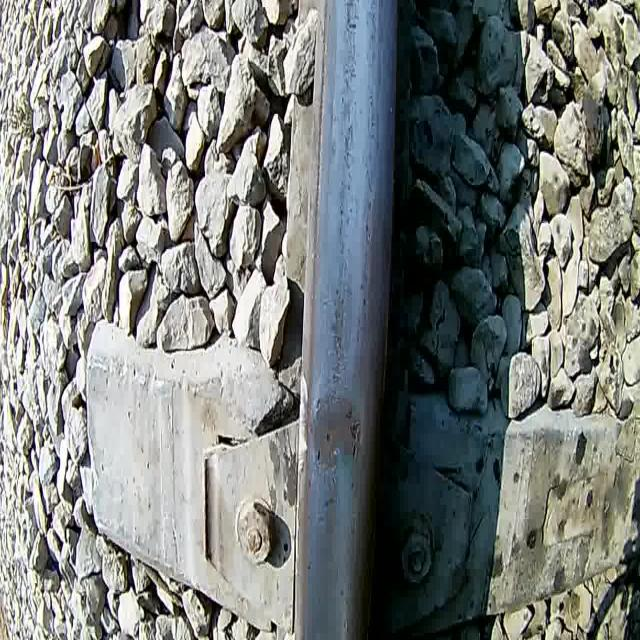Squats: (306, 391, 366, 474)
